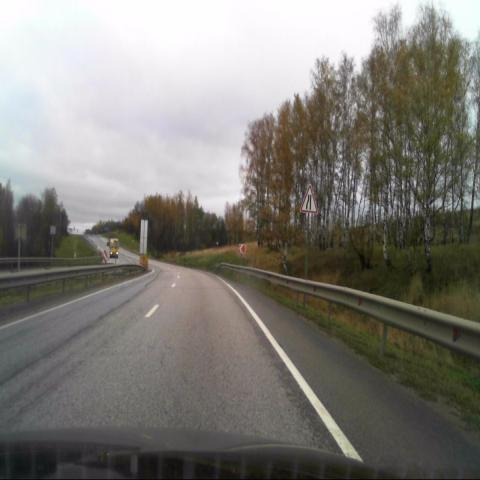1_20_3: (299, 184, 318, 214)
